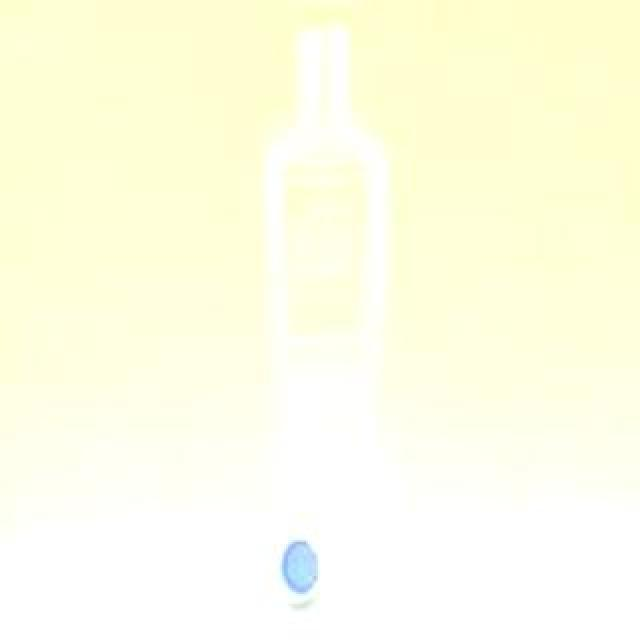Pet_Bottle: (267, 29, 385, 591)
